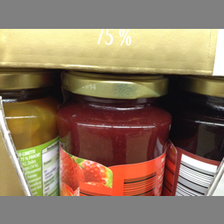jam: (57, 71, 173, 196), (1, 68, 59, 195), (165, 75, 223, 195)
